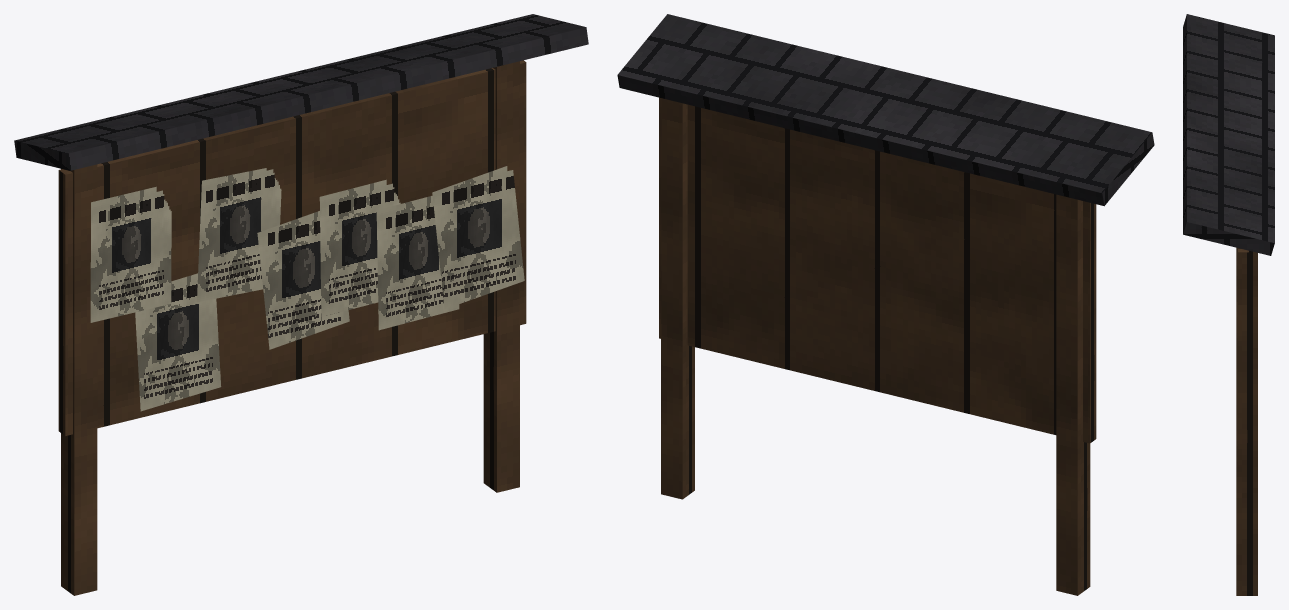
Rendered from town_notice_board.glb.
The picture shows the model from 3 angles, left to right: view 1: azimuth 30°, elevation 25°; view 2: azimuth 150°, elevation 25°; view 3: azimuth 270°, elevation 25°; orthographic projection. The views are drawn at different scales.
Visible parts, largest first — view 1: detail, board-col; view 2: board-col, detail; view 3: detail, board-col.
Boxes of the visible parts, x1,y1,x2,y2 form: detail: (14, 14, 588, 411); board-col: (58, 60, 526, 595); board-col: (659, 97, 1096, 595); detail: (617, 14, 1154, 206); detail: (1183, 14, 1274, 255); board-col: (1236, 247, 1257, 595).
Size of what is drawn, in the model's own units: 2.7 by 2.35 by 0.5037.
3 materials, 3 textured.
